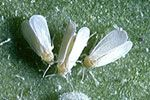whitefly: (76, 29, 133, 80), (47, 24, 89, 83), (19, 14, 56, 67)
